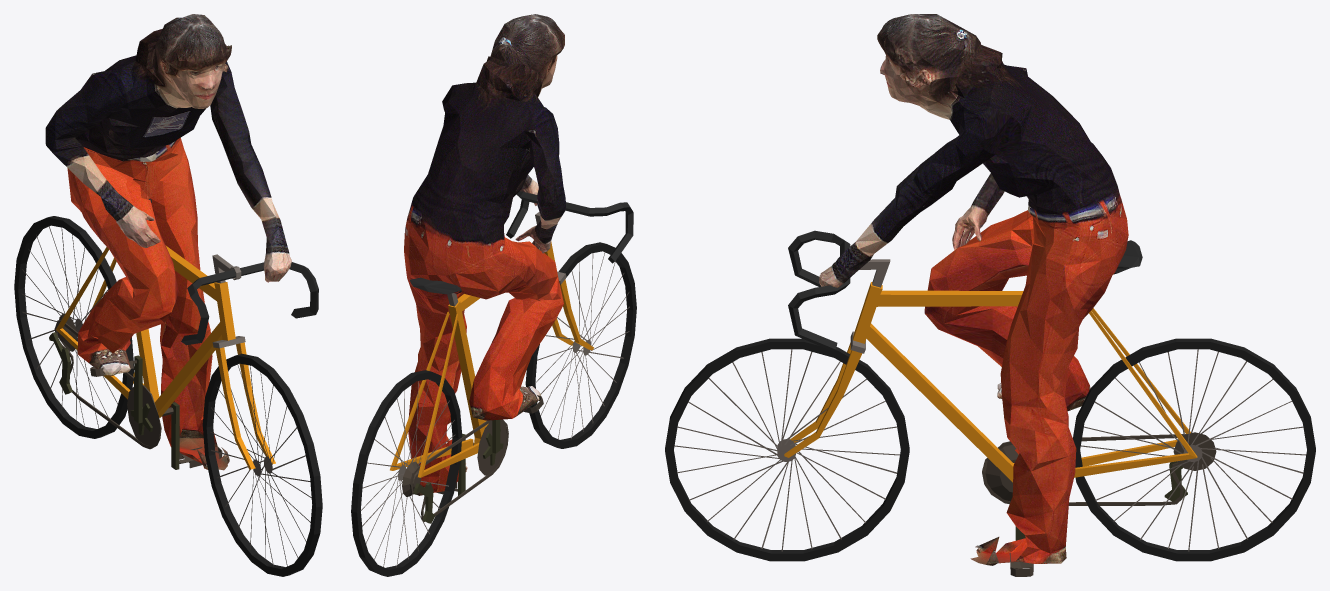
File: bicycle_female_2.obj
3 views of the same model, side by side, from view 1: azimuth 30°, elevation 25°; view 2: azimuth 150°, elevation 25°; view 3: azimuth 270°, elevation 25° (orthographic). The views are drawn at different scales.
Parts seen in each view (by area): view 1: StaticModelFinal, TIRE1, CROSS_BAR1, SPOKES1, TREK_SILLIN1, TREK_CROMO1, BLACK_HAND1; view 2: StaticModelFinal, TIRE1, CROSS_BAR1, SPOKES1, TREK_SILLIN1, BLACK_HAND1, TREK_CROMO1; view 3: StaticModelFinal, TIRE1, CROSS_BAR1, SPOKES1, TREK_SILLIN1, BLACK_HAND1.
Part boxes in pixels (x1,y1,x2,y2): StaticModelFinal: (45, 14, 291, 470); TIRE1: (14, 216, 322, 576); CROSS_BAR1: (56, 245, 275, 469); SPOKES1: (21, 226, 311, 566); TREK_SILLIN1: (54, 313, 222, 468); TREK_CROMO1: (49, 332, 179, 469); BLACK_HAND1: (149, 199, 318, 345); StaticModelFinal: (404, 14, 565, 495); TIRE1: (351, 242, 636, 576); CROSS_BAR1: (390, 241, 593, 477); SPOKES1: (361, 212, 629, 567); TREK_SILLIN1: (402, 395, 543, 521); BLACK_HAND1: (410, 191, 633, 294); TREK_CROMO1: (413, 419, 503, 523); StaticModelFinal: (819, 14, 1128, 565); TIRE1: (665, 338, 1315, 561); CROSS_BAR1: (784, 282, 1197, 482); SPOKES1: (674, 259, 1306, 551); TREK_SILLIN1: (982, 432, 1216, 576); BLACK_HAND1: (788, 230, 1142, 351).
Bounding box in the file's own units: 0.524 × 1.53 × 1.67.
